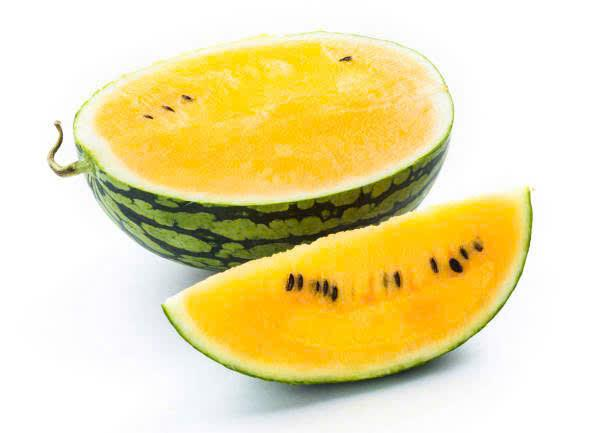watermelon: (123, 188, 534, 383), (42, 27, 459, 206)
